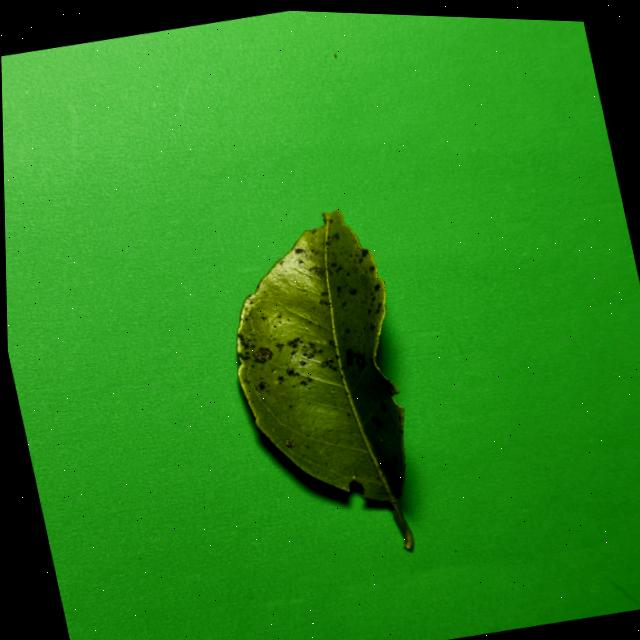sooty_mold: (237, 211, 413, 549)
